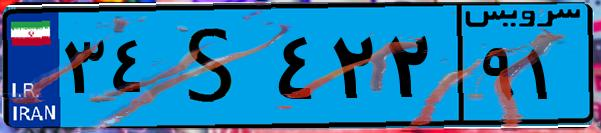1: (525, 38, 570, 115)
2: (385, 28, 445, 110), (330, 28, 385, 110)
3: (57, 26, 110, 100)
4: (270, 28, 330, 110), (110, 28, 158, 98)
9: (475, 38, 525, 113)
S: (158, 12, 270, 120)
